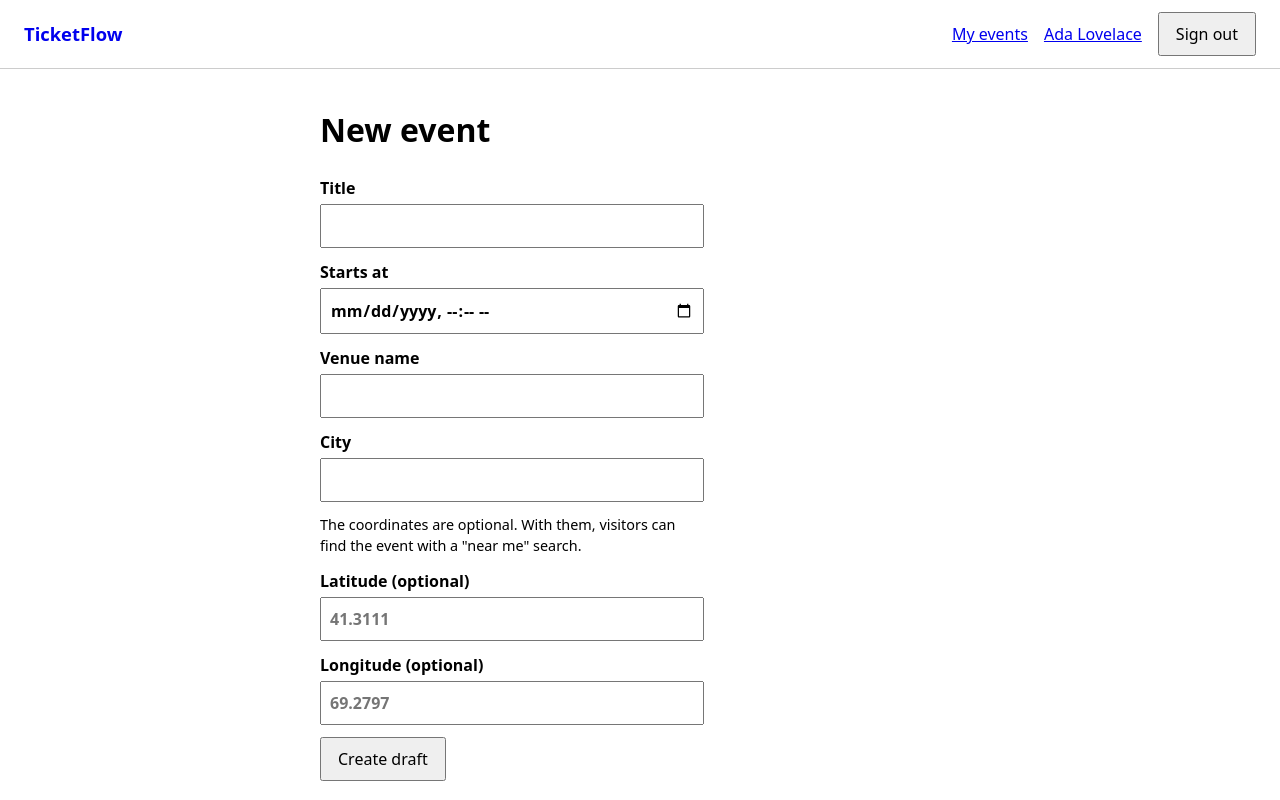
Test: creating an event › sends the trimmed event with the token and opens it for editing
expect the heading "New event" is shown: met, box left=320, top=108, right=490, bottom=151
Type "  Jazz Night " into the field labelled "Title". click: (512, 226)
box: left=320, top=204, right=704, bottom=248
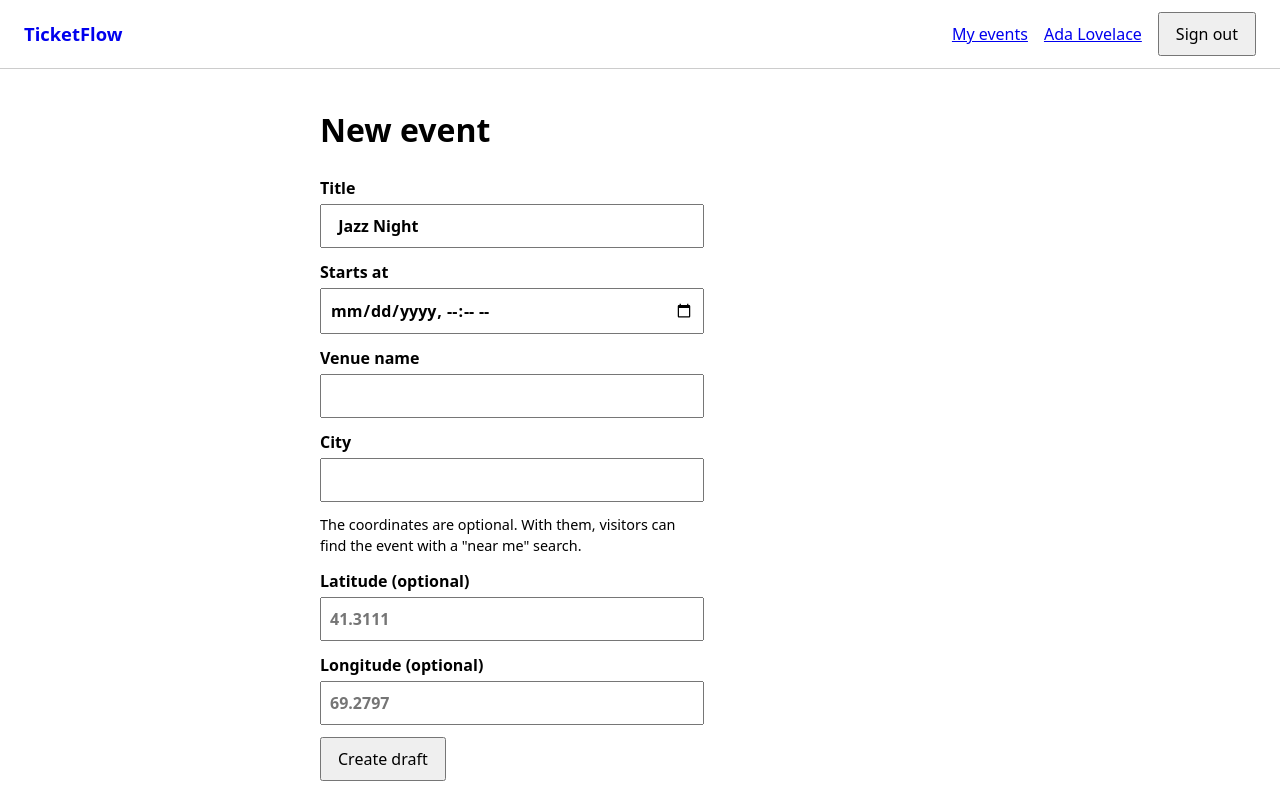
Type "2099-01-10T18:00" into the field labelled "Starts at". click: (512, 311)
box: left=320, top=288, right=704, bottom=334
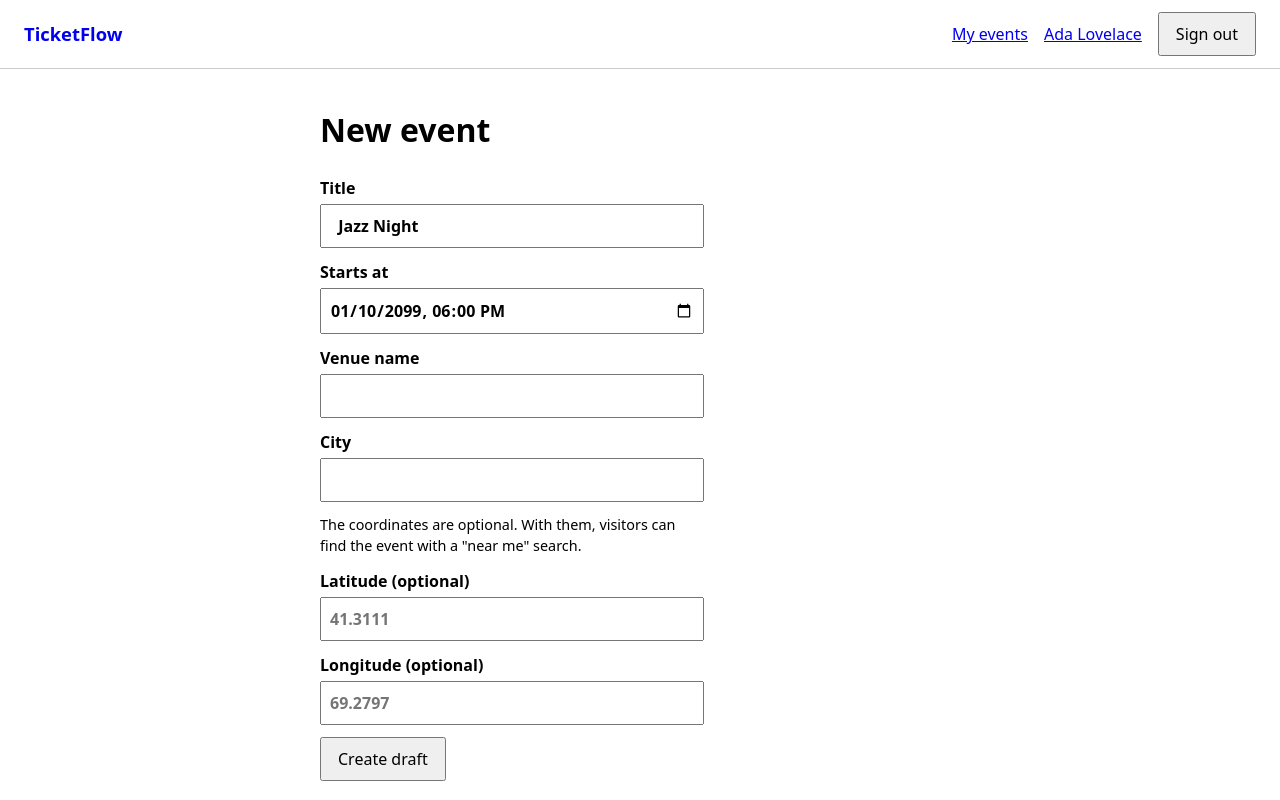
Type "Main Hall" into the field labelled "Venue name". click: (512, 396)
box: left=320, top=374, right=704, bottom=418
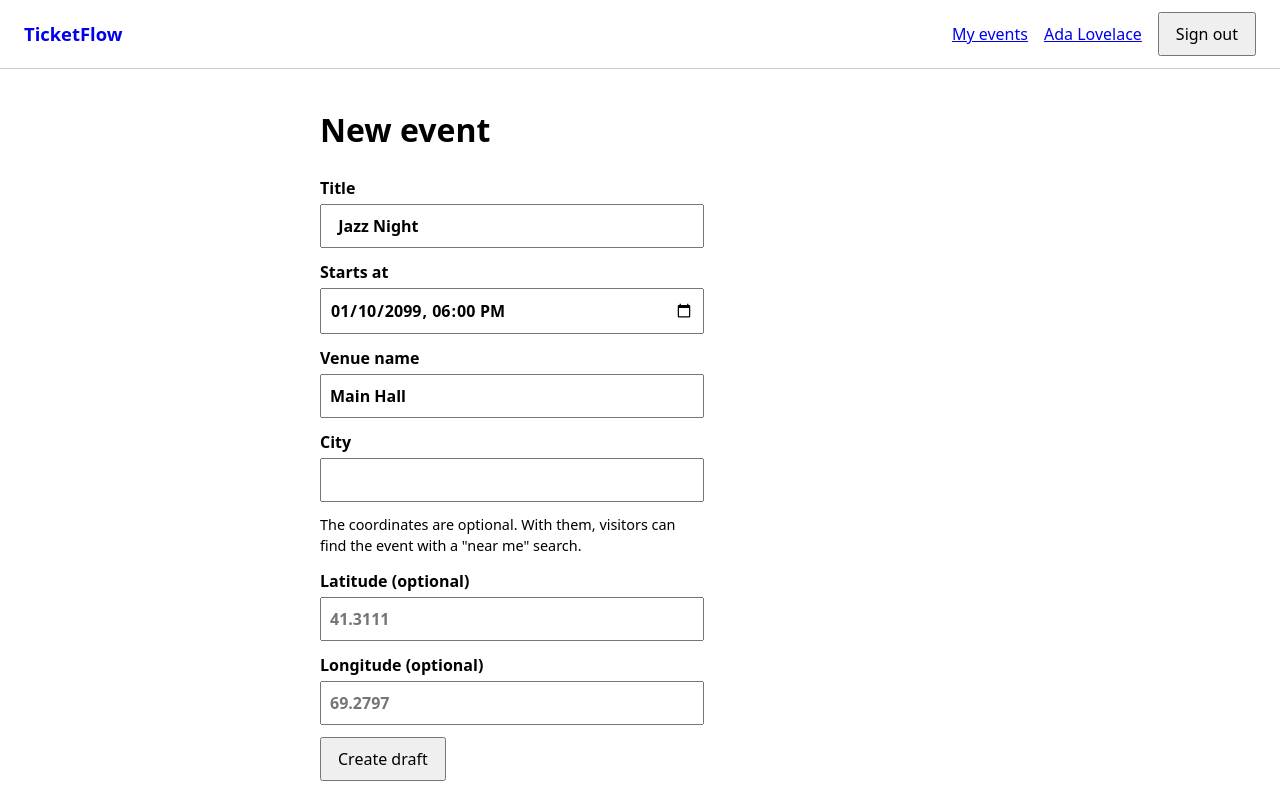
Type "Tashkent" into the field labelled "City". click: (512, 480)
box: left=320, top=458, right=704, bottom=502
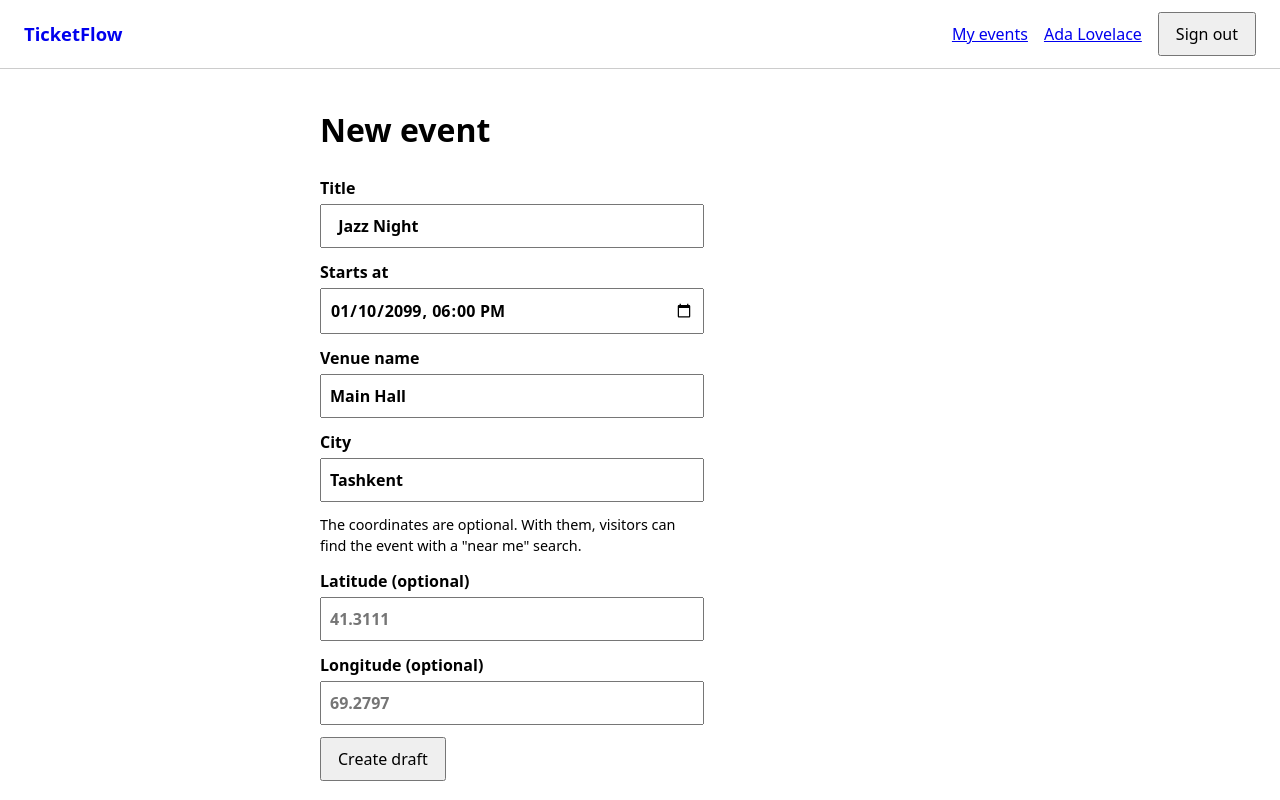
Click the button "Create draft". click: (383, 759)
box: left=320, top=737, right=446, bottom=781
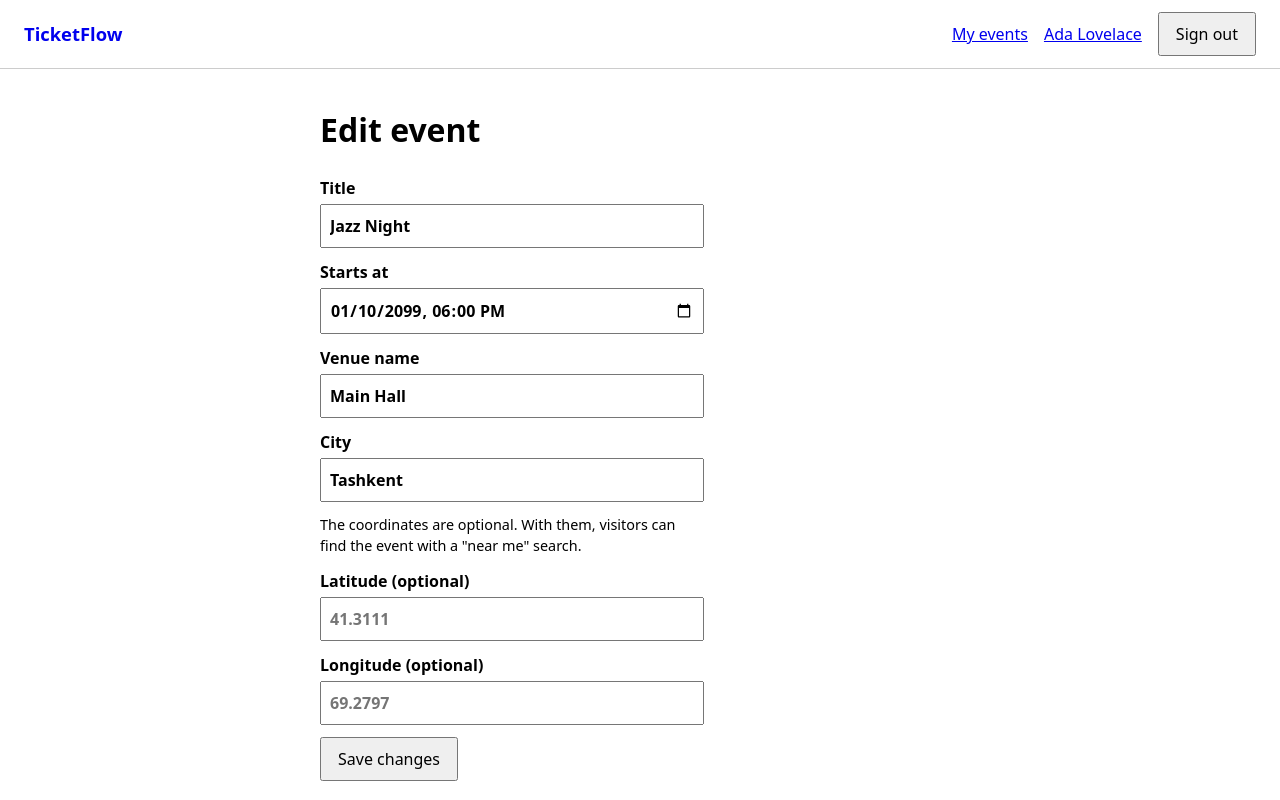
expect the heading "Edit event" is shown: met, box left=320, top=108, right=480, bottom=151
